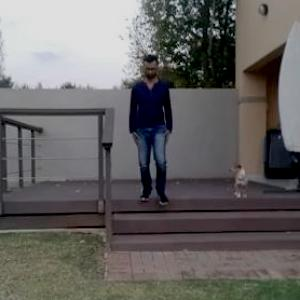follow: (127, 56, 165, 209)
